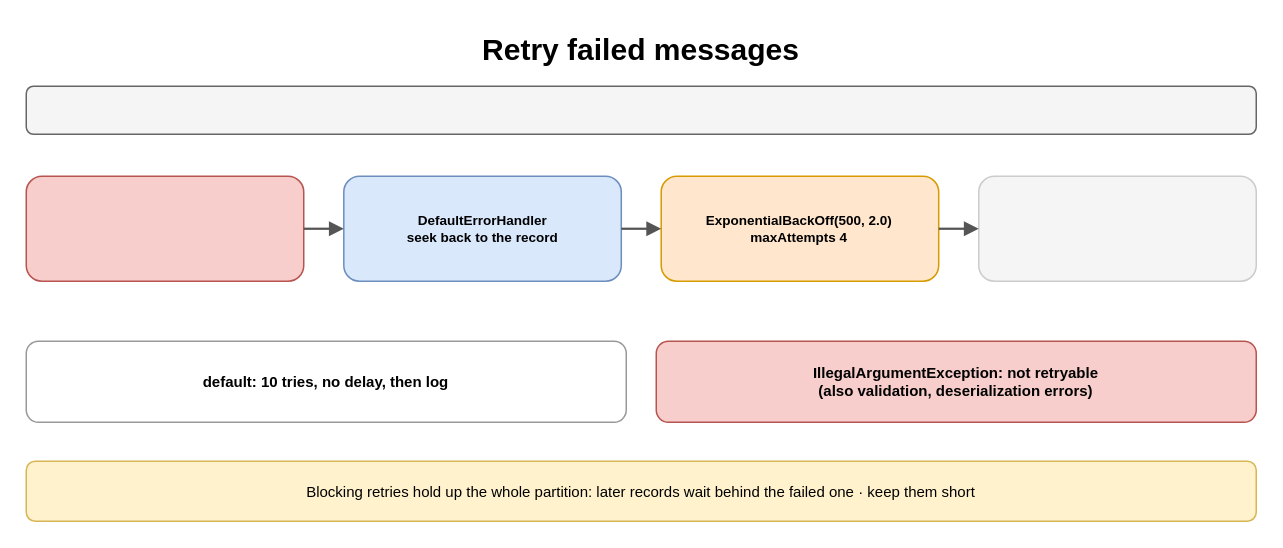
The diagram is 1283 pixels wide and 548 high, and some of its shapes have lost their labels. Here are the shapes that lost their labels. From the top down, the box of each, then its label:
(25, 85, 1256, 134): DefaultErrorHandler seeks back and redelivers the failed record
(25, 175, 304, 281): listener throws
(977, 175, 1256, 281): still failing: log and move on
